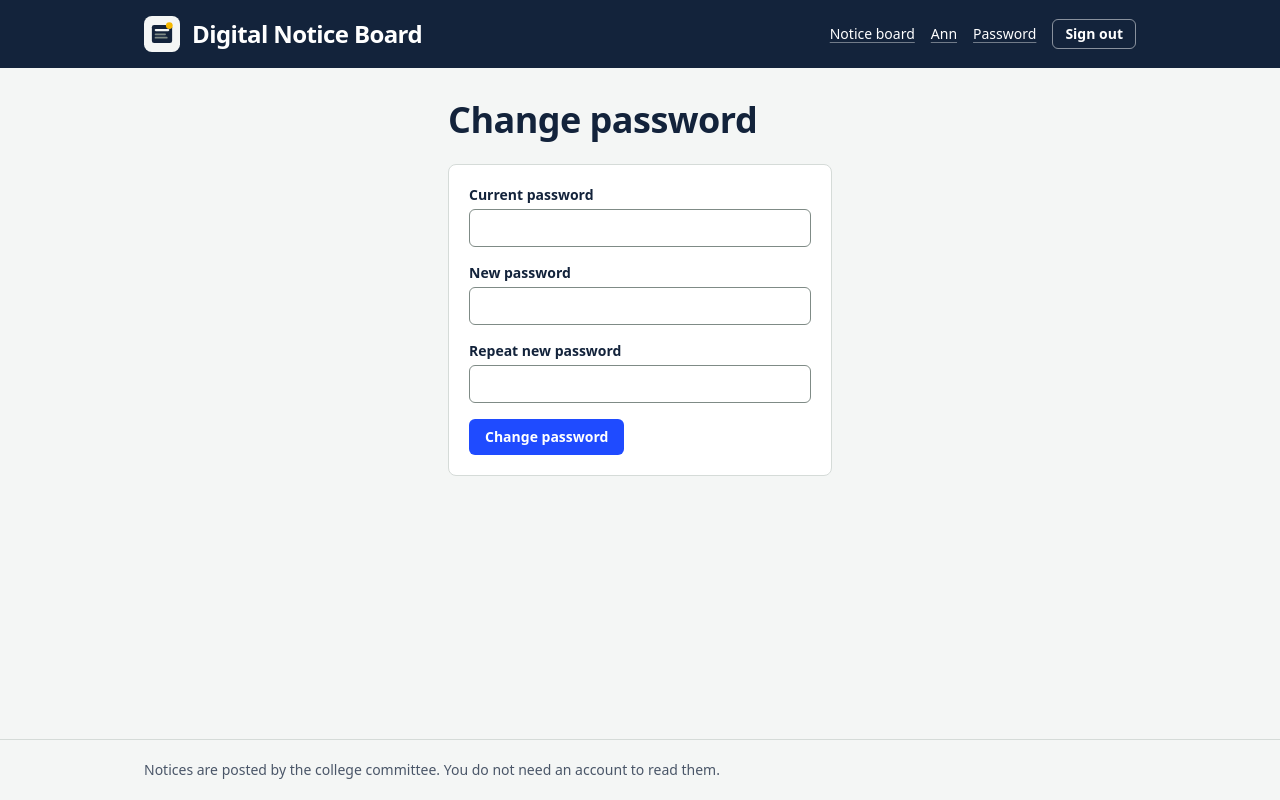
Test: change password page › shows the server's message when the current password is wrong
The width and height of the screenshot is (1280, 800).
Expected: the heading "Change password" is shown, [448, 95, 757, 144]
In the password field labelled "Current password": coordinates (640, 228) [469, 209, 811, 247], type "wrong"
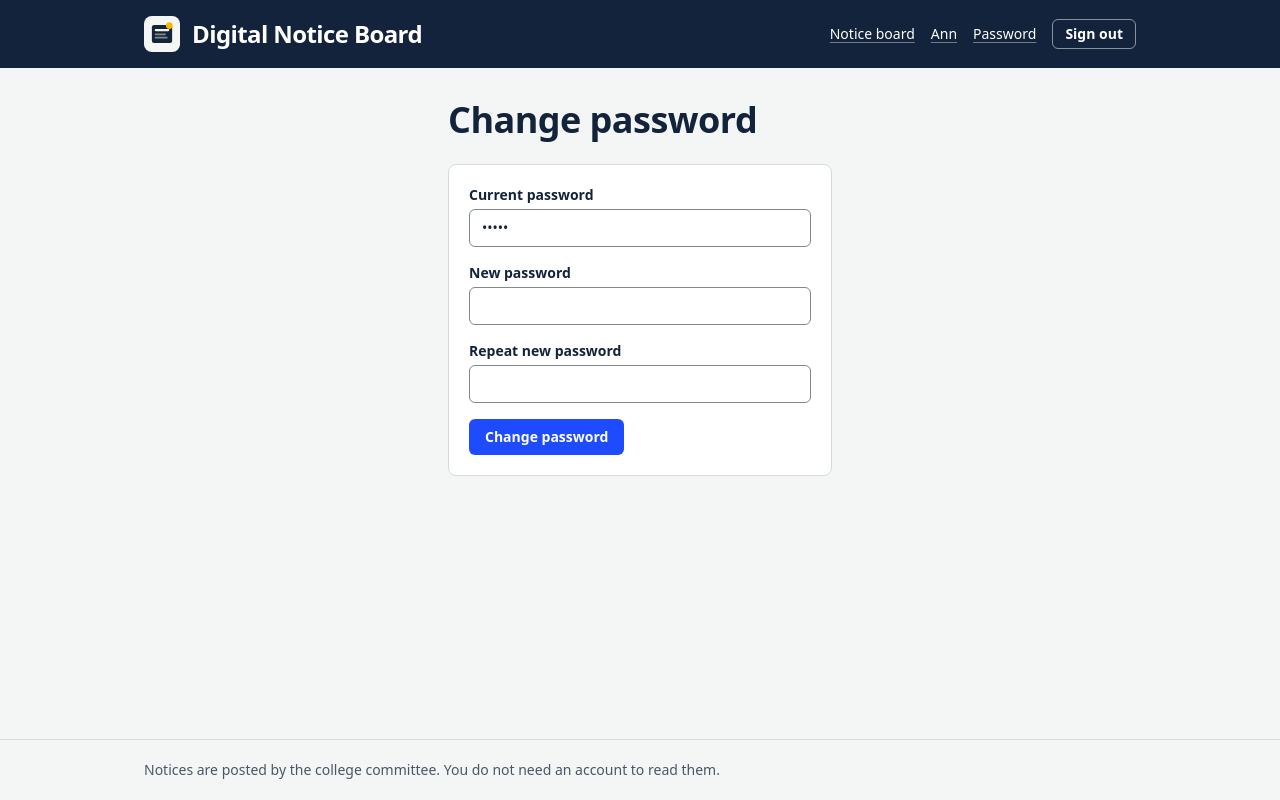
In the password field labelled "New password": coordinates (640, 306) [469, 287, 811, 325], type "a-long-new-password"
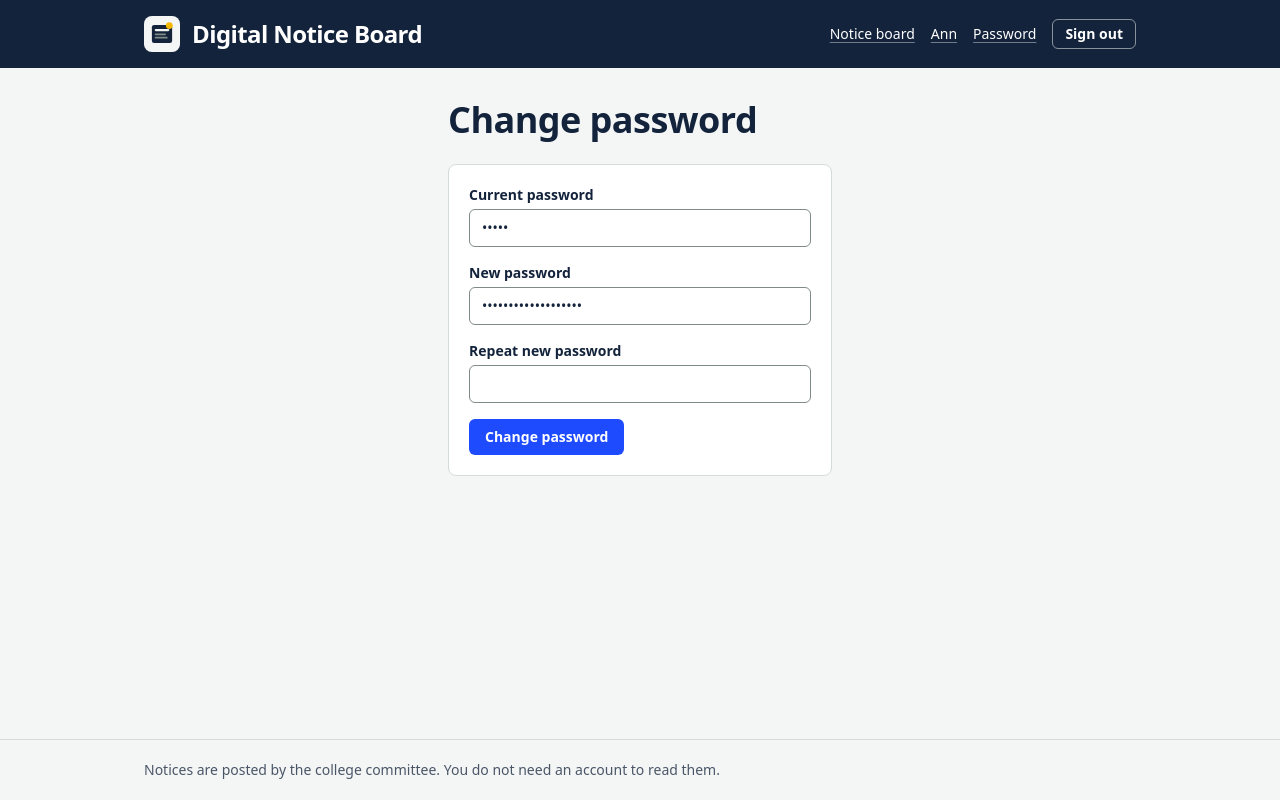
In the password field labelled "Repeat new password": coordinates (640, 384) [469, 365, 811, 403], type "a-long-new-password"
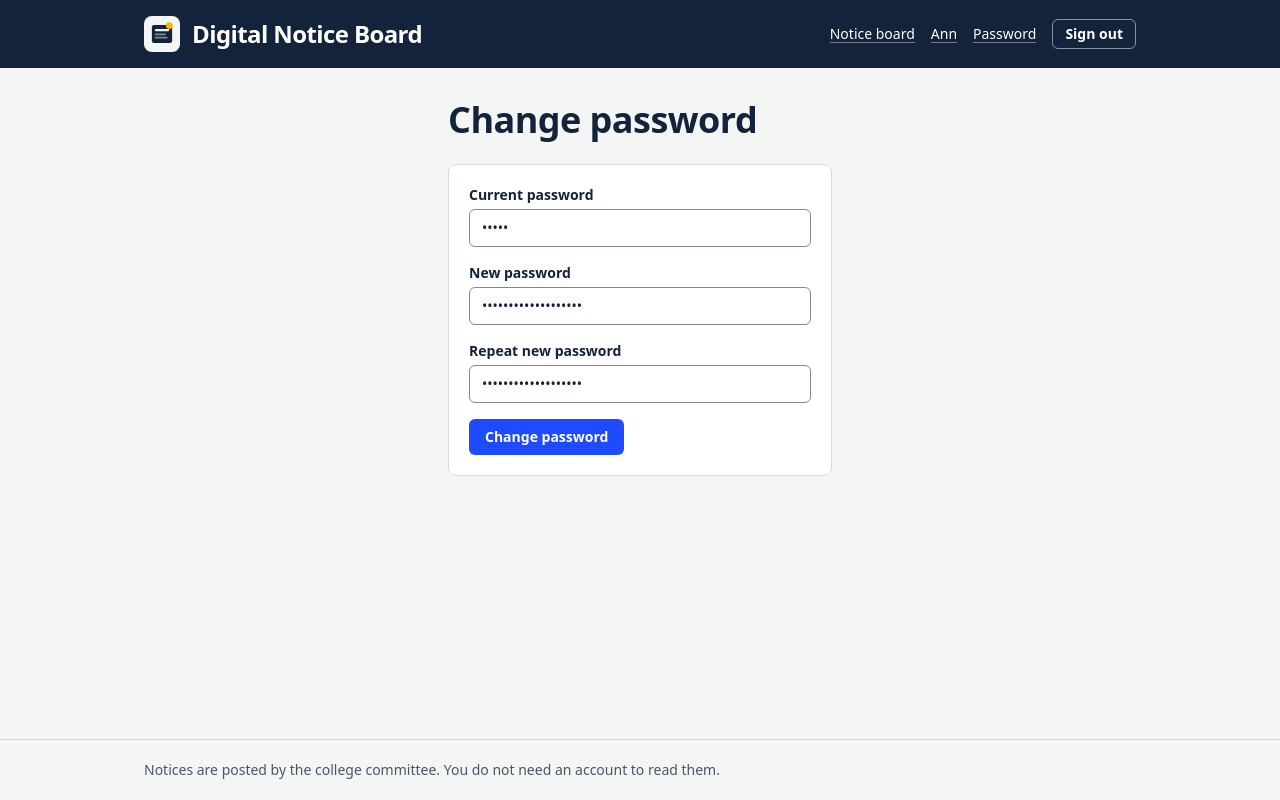
Click the button "Change password": coordinates (547, 437) [469, 419, 624, 455]
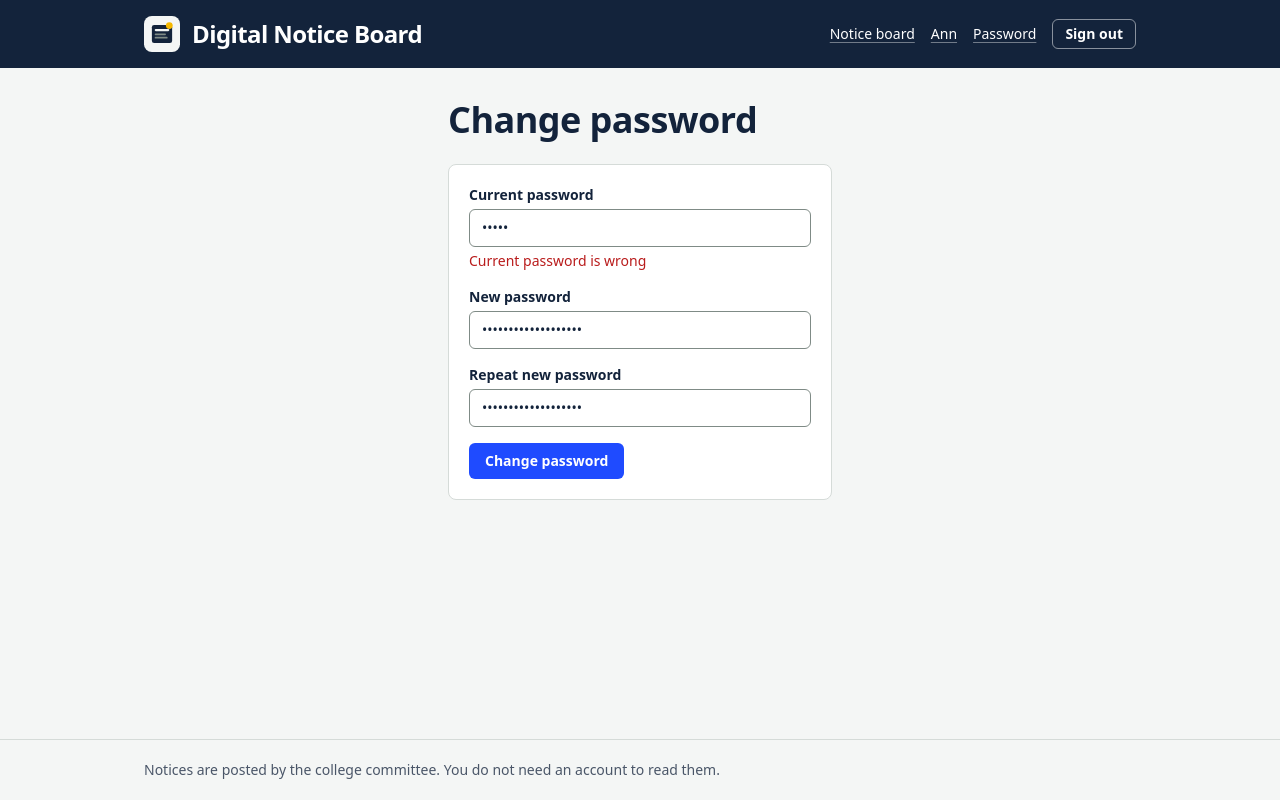
Expected: the button "Change password" is enabled, [469, 443, 624, 479]
Result: the text "Current password is wrong" is shown at [469, 251, 646, 270]
